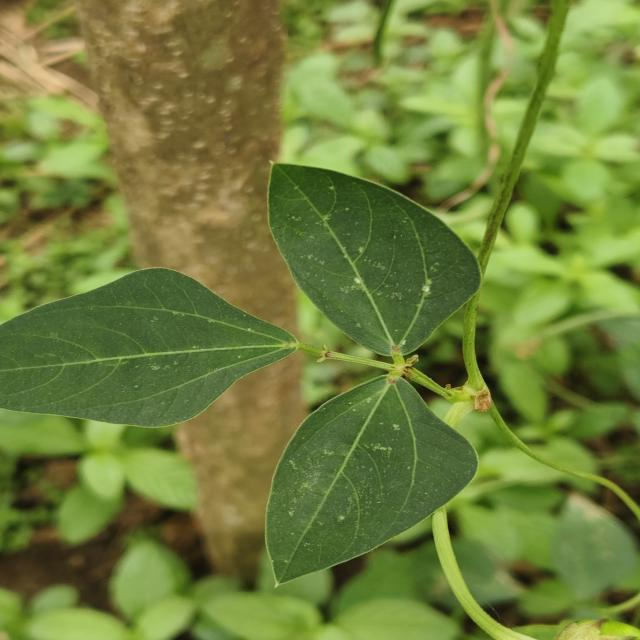leaf-low: (0, 268, 297, 427), (266, 375, 477, 584)
sitaw-aphid-high: (268, 163, 481, 355)
